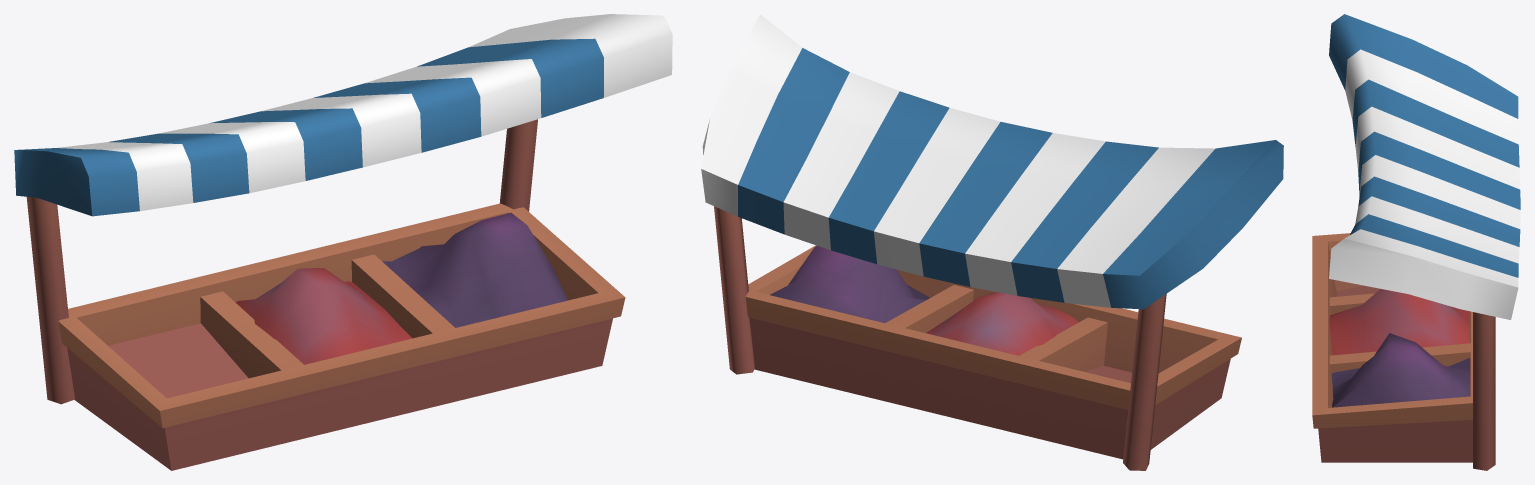
File: Market_Stall_Blue.obj
3 views of the same model, side by side, from view 1: azimuth 30°, elevation 25°; view 2: azimuth 150°, elevation 25°; view 3: azimuth 270°, elevation 25° (orthographic). The views are drawn at different scales.
Visible parts, largest first — view 1: {mesh}Market_Stall_Blue_Cube.004; view 2: {mesh}Market_Stall_Blue_Cube.004; view 3: {mesh}Market_Stall_Blue_Cube.004.
Part boxes in pixels (bbox=[...]): {mesh}Market_Stall_Blue_Cube.004: bbox=[14, 14, 672, 470]; {mesh}Market_Stall_Blue_Cube.004: bbox=[701, 14, 1283, 470]; {mesh}Market_Stall_Blue_Cube.004: bbox=[1312, 14, 1520, 470].
Bounding box in the file's own units: 199 × 103 × 76.92.
